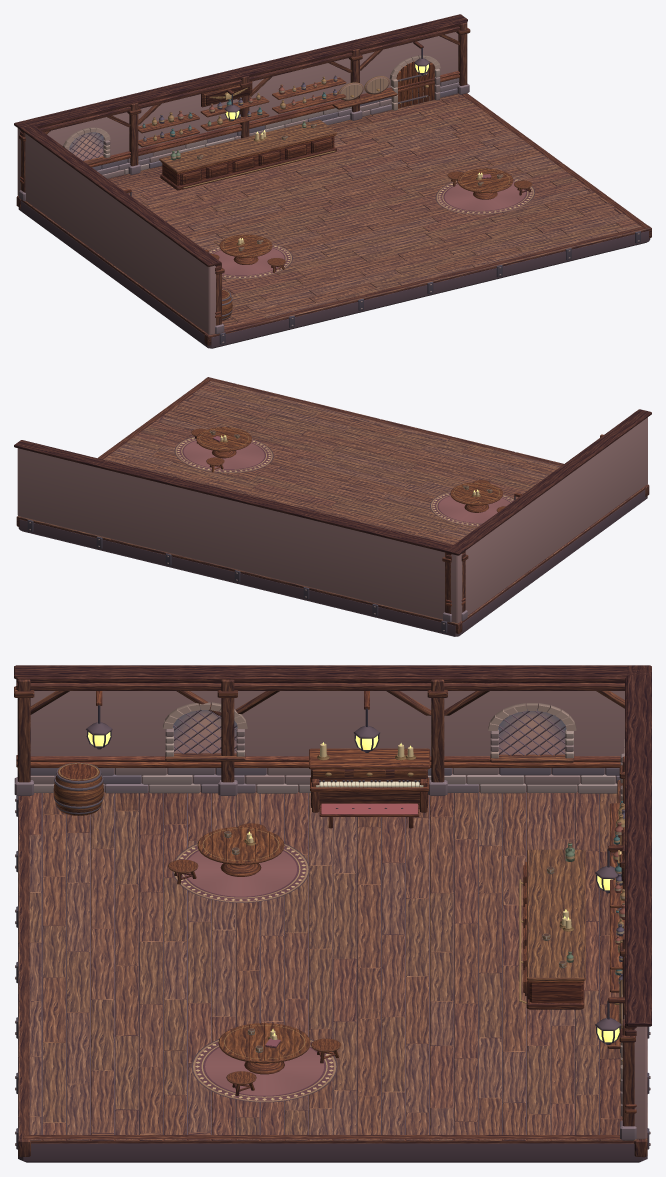
File: amber-lantern.glb
The picture shows the model from 3 angles, top to bottom: view 1: azimuth 30°, elevation 25°; view 2: azimuth 150°, elevation 25°; view 3: azimuth 270°, elevation 25°; orthographic projection. The views are drawn at different scales.
Parts seen in each view (by area): view 1: Staggered oak floorboards, Ochre plaster bays, Mortised posts and braces, Stone plinth and worn ashlar, Backbar shelving and serving counter, Woven stair runner and hearth rugs, Wrought iron and brass, Earthenware and blown bottles, Carved mouldings, Turned oak table 17, Turned oak table 14, Leaded window panes; view 2: Ochre plaster bays, Staggered oak floorboards, Mortised posts and braces, Stone plinth and worn ashlar, Woven stair runner and hearth rugs, Turned oak table 17, Turned oak table 14, Wrought iron and brass; view 3: Staggered oak floorboards, Mortised posts and braces, Stone plinth and worn ashlar, Ochre plaster bays, Backbar shelving and serving counter, Woven stair runner and hearth rugs, Wrought iron and brass, Spinet case and stool, Leaded window panes, Turned oak table 17, Tankards, candles and hardware, Turned oak table 14 (+4 smaller).
Boxes of the visible parts, box(x1,y1,x2,y2) form: Staggered oak floorboards: box(17, 93, 651, 336); Ochre plaster bays: box(17, 32, 458, 334); Mortised posts and braces: box(14, 14, 651, 345); Stone plinth and worn ashlar: box(18, 55, 650, 348); Backbar shelving and serving counter: box(138, 77, 397, 190); Woven stair runner and hearth rugs: box(208, 177, 534, 278); Wrought iron and brass: box(69, 48, 640, 344); Earthenware and blown bottles: box(142, 75, 389, 160); Carved mouldings: box(201, 61, 434, 108); Turned oak table 17: box(457, 168, 513, 199); Turned oak table 14: box(219, 234, 272, 264); Leaded window panes: box(69, 61, 431, 160); Ochre plaster bays: box(17, 417, 647, 623); Staggered oak floorboards: box(17, 377, 648, 624); Mortised posts and braces: box(14, 377, 651, 633); Stone plinth and worn ashlar: box(18, 412, 647, 636); Woven stair runner and hearth rugs: box(174, 436, 514, 526); Turned oak table 17: box(196, 427, 251, 458); Turned oak table 14: box(450, 482, 502, 512); Wrought iron and brass: box(27, 428, 515, 632); Staggered oak floorboards: box(18, 791, 647, 1140); Mortised posts and braces: box(14, 665, 651, 1157); Stone plinth and worn ashlar: box(14, 702, 647, 1162); Ochre plaster bays: box(30, 691, 647, 1139); Backbar shelving and serving counter: box(523, 803, 624, 1048); Woven stair runner and hearth rugs: box(172, 843, 337, 1102); Wrought iron and brass: box(15, 705, 650, 1149); Spinet case and stool: box(309, 748, 430, 828); Leaded window panes: box(173, 708, 566, 754); Turned oak table 17: box(218, 1023, 310, 1074); Tankards, candles and hardware: box(224, 743, 571, 1052); Turned oak table 14: box(197, 826, 284, 876).
Bounding box in the file's own units: 32.3 × 6 × 24.31.
Materials: 3 (1 with a texture image).
